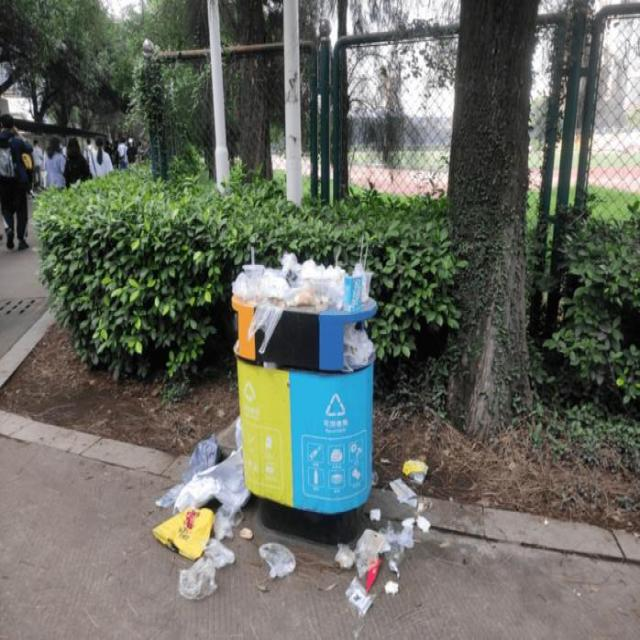garbage: (153, 414, 293, 596), (324, 454, 431, 616)
overflow: (228, 234, 376, 540)
